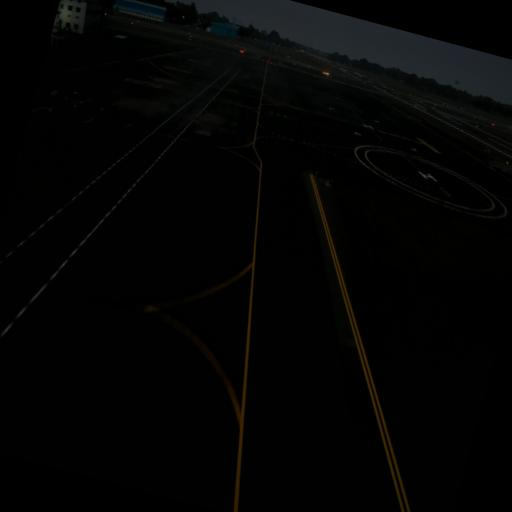on: (325, 178, 330, 185)
